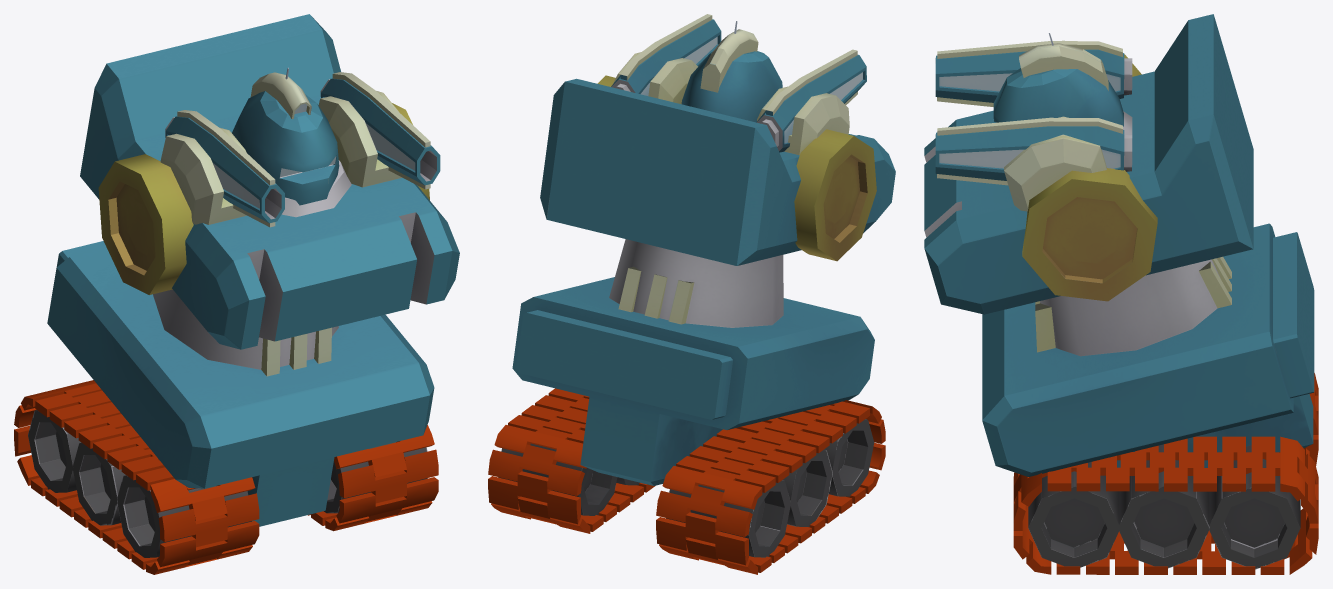
File: player_move8.obj
3 views of the same model, side by side, from view 1: azimuth 30°, elevation 25°; view 2: azimuth 150°, elevation 25°; view 3: azimuth 270°, elevation 25° (orthographic). The views are drawn at different scales.
Parts seen in each view (by area): view 1: Object004, Box038, Object012, Object011, Box042; view 2: Object004, Box038, Box042, Object011, Object012; view 3: Object004, Object011, Box042, Object012, Box038.
Boxes of the visible parts, left/top/right/bottom form: Object004: left=47, top=14, right=459, bottom=526; Box038: left=14, top=380, right=259, bottom=574; Object012: left=165, top=72, right=440, bottom=227; Object011: left=28, top=410, right=427, bottom=557; Box042: left=308, top=425, right=438, bottom=531; Object004: left=512, top=29, right=895, bottom=485; Box038: left=656, top=400, right=885, bottom=574; Box042: left=488, top=388, right=655, bottom=533; Object011: left=498, top=419, right=874, bottom=557; Object012: left=611, top=14, right=866, bottom=152; Object004: left=924, top=14, right=1314, bottom=476; Object011: left=1028, top=444, right=1300, bottom=569; Box042: left=1013, top=436, right=1318, bottom=574; Object012: left=935, top=41, right=1132, bottom=185; Box038: left=1304, top=373, right=1318, bottom=465.
Bounding box in the file's own units: 110 × 180 × 135.
Materials: 3 (1 with a texture image).
